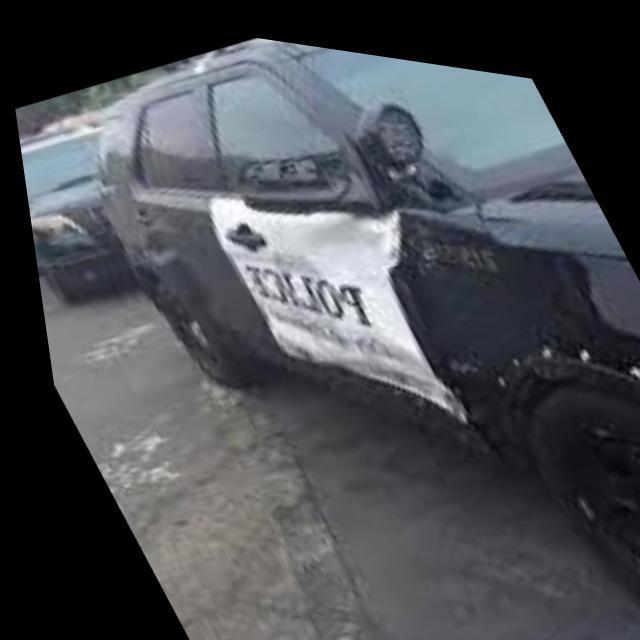dent: (209, 196, 479, 419)
